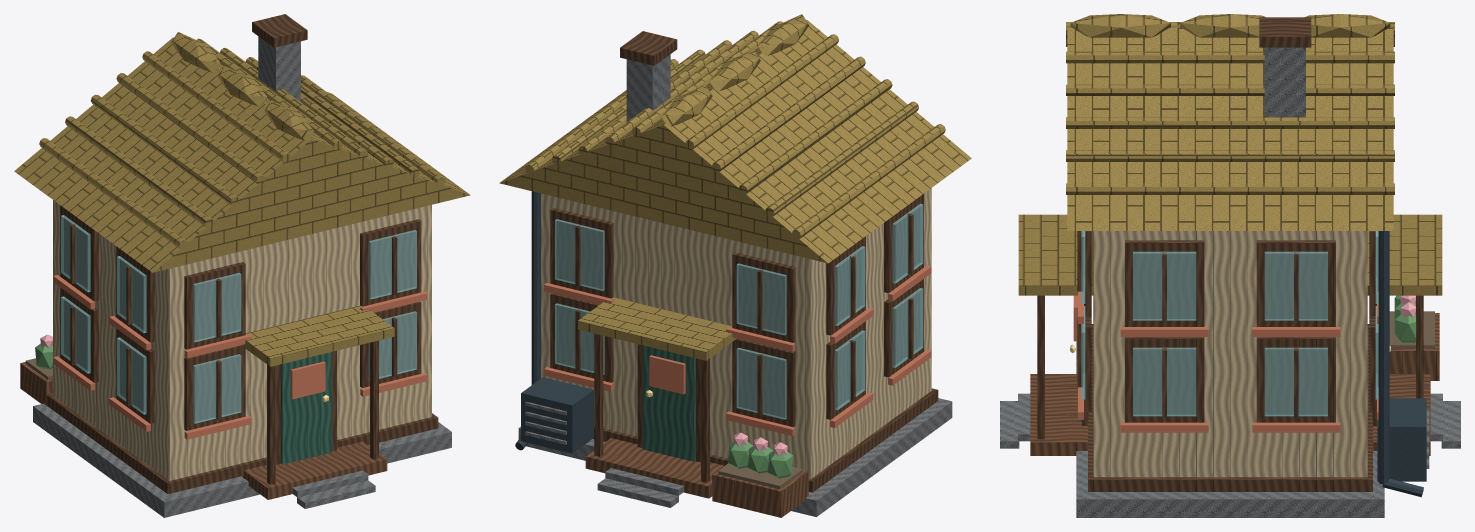
Rendered from house_cottage_lv2.glb.
3 renders of one model, left to right at view 1: azimuth 30°, elevation 25°; view 2: azimuth 150°, elevation 25°; view 3: azimuth 270°, elevation 25°, orthographic. The views are drawn at different scales.
Parts seen in each view (by area): view 1: gable_roof, walls, foundation, front_porch_canopy, front_window_frame.003, floor_trim, front_door, front_window_frame.002, front_window_frame, front_deck, front_window_frame.001, front_window_glass.002 (+37 smaller); view 2: gable_roof, walls, back_porch_canopy, foundation, back_door, back_window_frame.003, back_window_frame.002, back_window_frame, back_ac_unit, back_deck, back_window_frame.001, back_window_glass (+41 smaller); view 3: gable_roof, walls, foundation, right_window_frame.002, right_window_frame.003, right_window_frame, right_window_frame.001, floor_trim, front_porch_canopy, back_porch_canopy, right_window_glass.002, right_window_glass.003 (+33 smaller).
Part boxes in pixels (left/top/right/bottom): gable_roof: left=14, top=37, right=470, bottom=272; walls: left=53, top=200, right=431, bottom=480; foundation: left=33, top=403, right=451, bottom=517; front_porch_canopy: left=241, top=305, right=394, bottom=366; front_window_frame.003: left=360, top=219, right=421, bottom=306; floor_trim: left=46, top=393, right=438, bottom=493; front_door: left=281, top=352, right=331, bottom=464; front_window_frame.002: left=184, top=262, right=245, bottom=349; front_window_frame: left=184, top=345, right=245, bottom=430; front_deck: left=242, top=441, right=387, bottom=499; front_window_frame.001: left=360, top=301, right=421, bottom=387; front_window_glass.002: left=193, top=273, right=241, bottom=342; gable_roof: left=499, top=20, right=971, bottom=263; walls: left=541, top=188, right=931, bottom=478; back_porch_canopy: left=578, top=297, right=736, bottom=360; foundation: left=518, top=398, right=952, bottom=516; back_door: left=642, top=345, right=695, bottom=461; back_window_frame.003: left=550, top=208, right=613, bottom=298; back_window_frame.002: left=732, top=252, right=795, bottom=342; back_window_frame: left=732, top=338, right=795, bottom=427; back_ac_unit: left=521, top=377, right=593, bottom=453; back_deck: left=585, top=438, right=724, bottom=498; back_window_frame.001: left=550, top=293, right=613, bottom=382; back_window_glass: left=736, top=347, right=786, bottom=419; gable_roof: left=1067, top=27, right=1393, bottom=230; walls: left=1093, top=231, right=1367, bottom=477; foundation: left=1076, top=341, right=1384, bottom=517; right_window_frame.002: left=1125, top=240, right=1204, bottom=326; right_window_frame.003: left=1256, top=240, right=1335, bottom=326; right_window_frame: left=1125, top=337, right=1204, bottom=422; right_window_frame.001: left=1256, top=337, right=1335, bottom=422; floor_trim: left=1088, top=324, right=1372, bottom=491; front_porch_canopy: left=1018, top=214, right=1093, bottom=295; back_porch_canopy: left=1367, top=214, right=1442, bottom=295; right_window_glass.002: left=1133, top=251, right=1196, bottom=320; right_window_glass.003: left=1264, top=251, right=1327, bottom=320.
Bounding box in the file's own units: 3.15 × 3.56 × 3.36.
13 materials, 7 textured.
